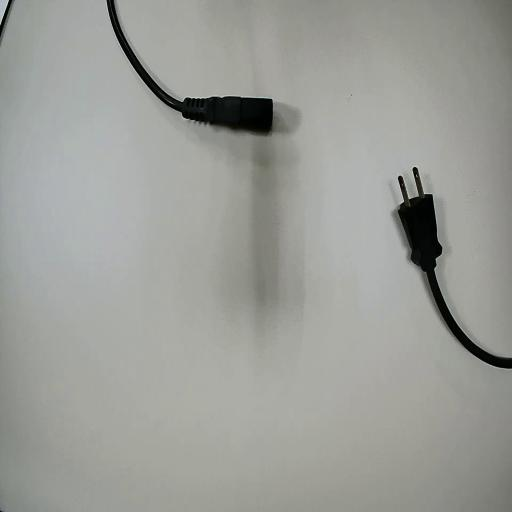wire: (398, 169, 511, 367), (108, 0, 272, 133)
